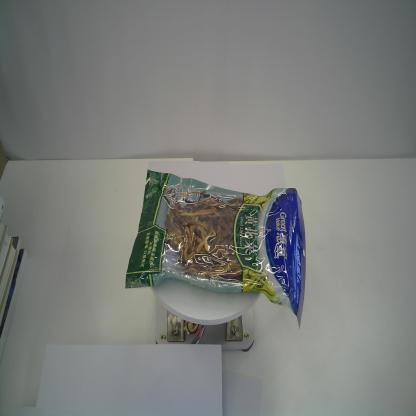Dried Food: (125, 169, 306, 330)
